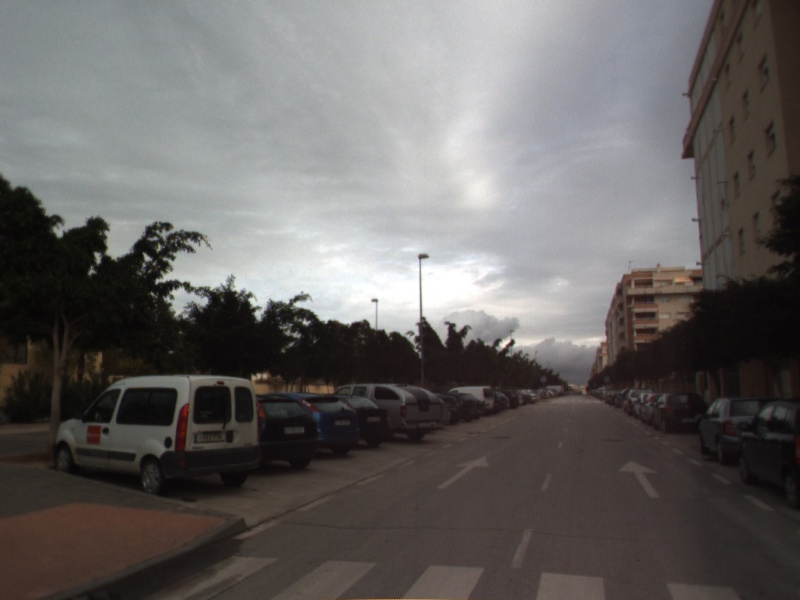STRAIGHT: (435, 454, 492, 491), (616, 458, 662, 500)
